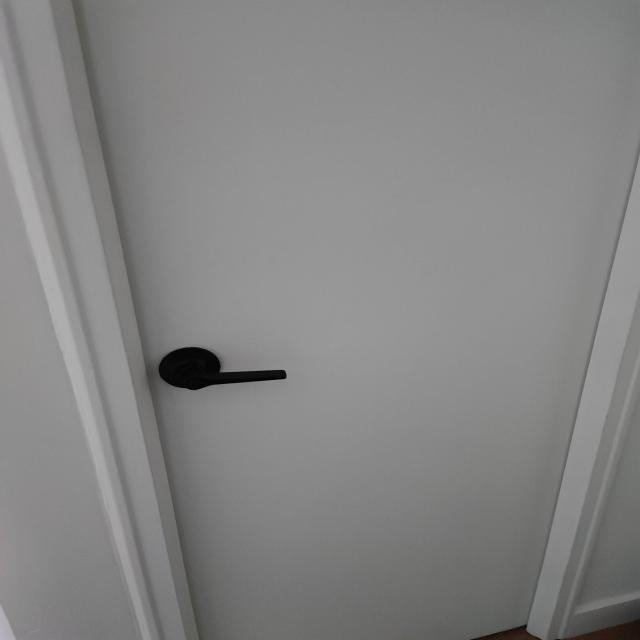door-handle: (158, 348, 287, 390)
